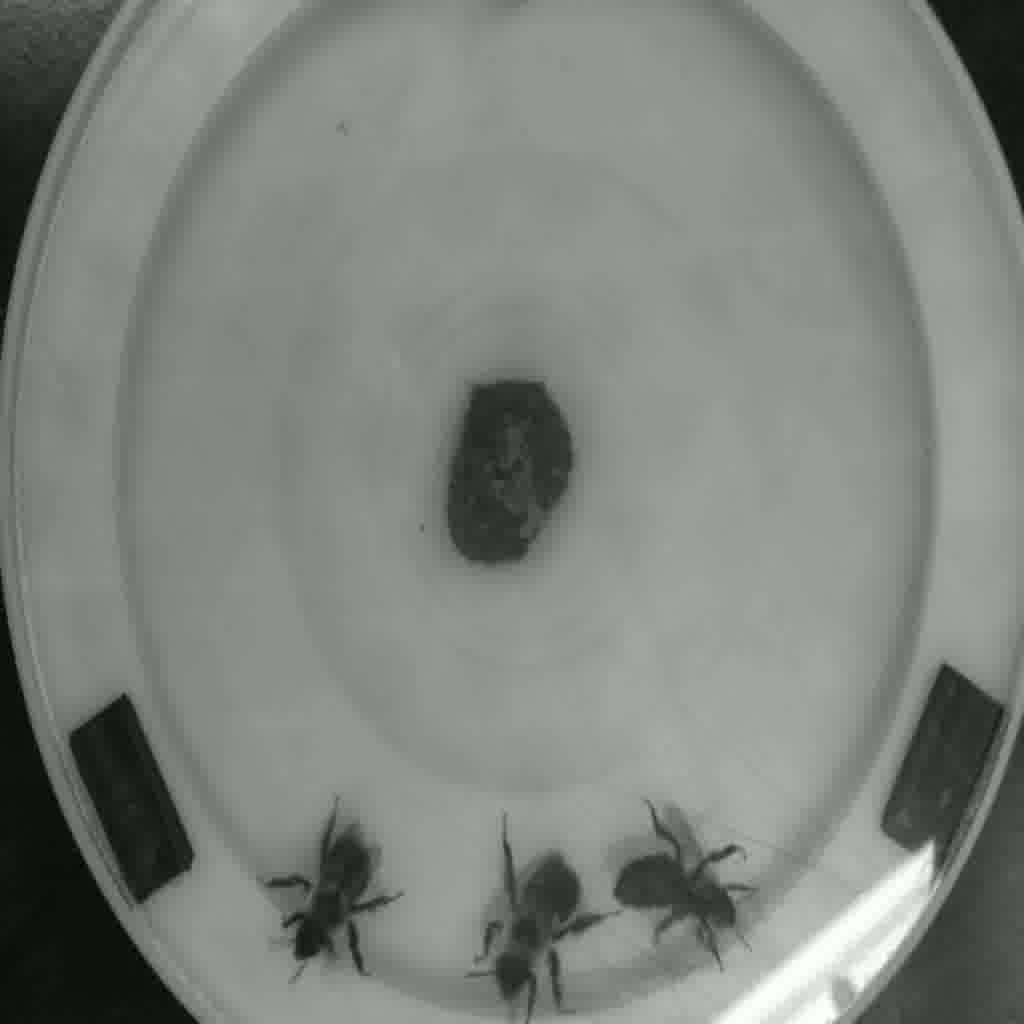bee: (613, 839, 752, 955), (294, 833, 387, 974), (501, 841, 574, 992)
